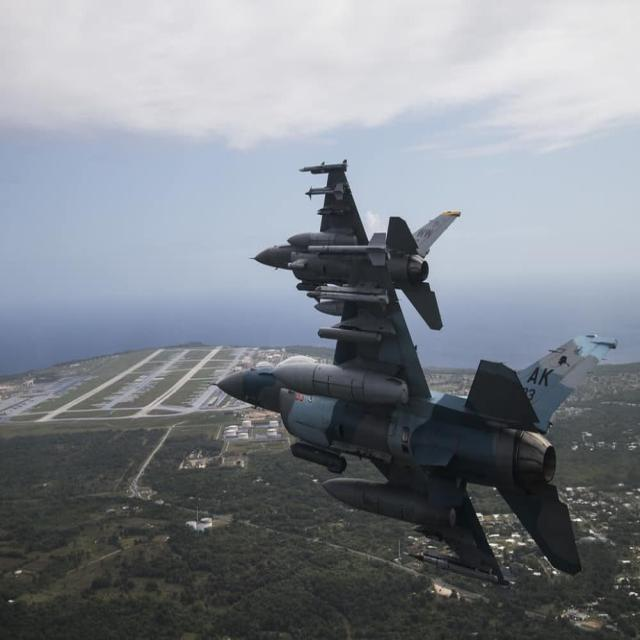MIL_Plane: (209, 232, 620, 593), (247, 158, 461, 353)
